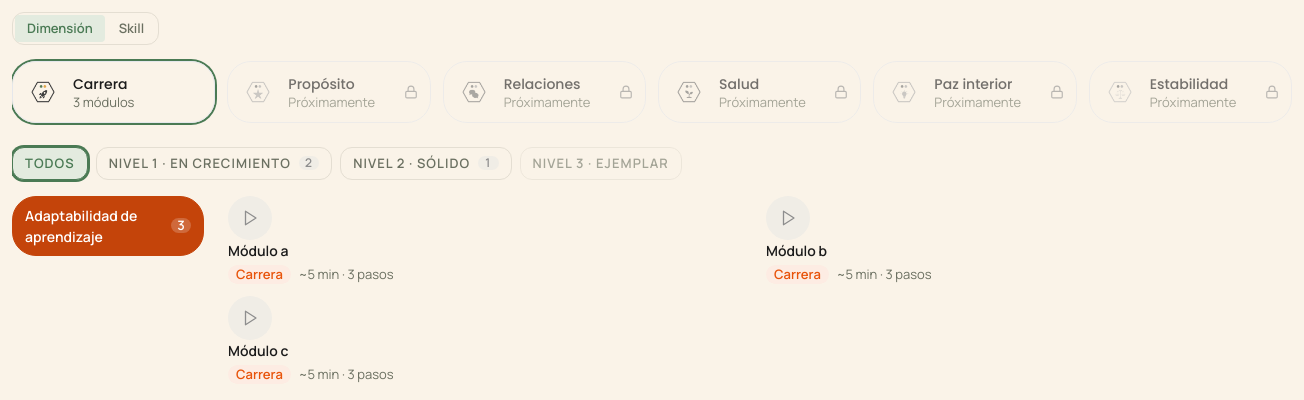
Test: DimensionCatalog › Carrera muestra los niveles y filtra por nivel; el que no tiene contenido queda deshabilitado
Check: the element "Nivel" shows "Nivel 1", box x1=96 y1=147 x2=332 y2=180
Check: the button "Nivel 3 · Ejemplar" is disabled, box x1=520 y1=147 x2=682 y2=180
Click the button "Nivel 2 · Sólido 1". click: (426, 163)
box: x1=340 y1=147 x2=512 y2=180
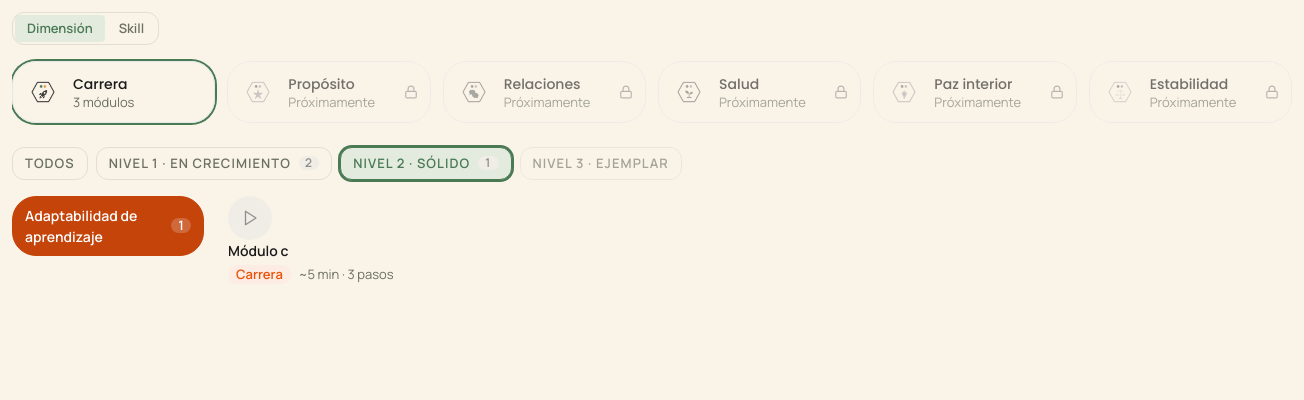
Check: the heading "Módulo c" is shown, box x1=228 y1=241 x2=289 y2=260
Check: the link "Módulo a" is gone
